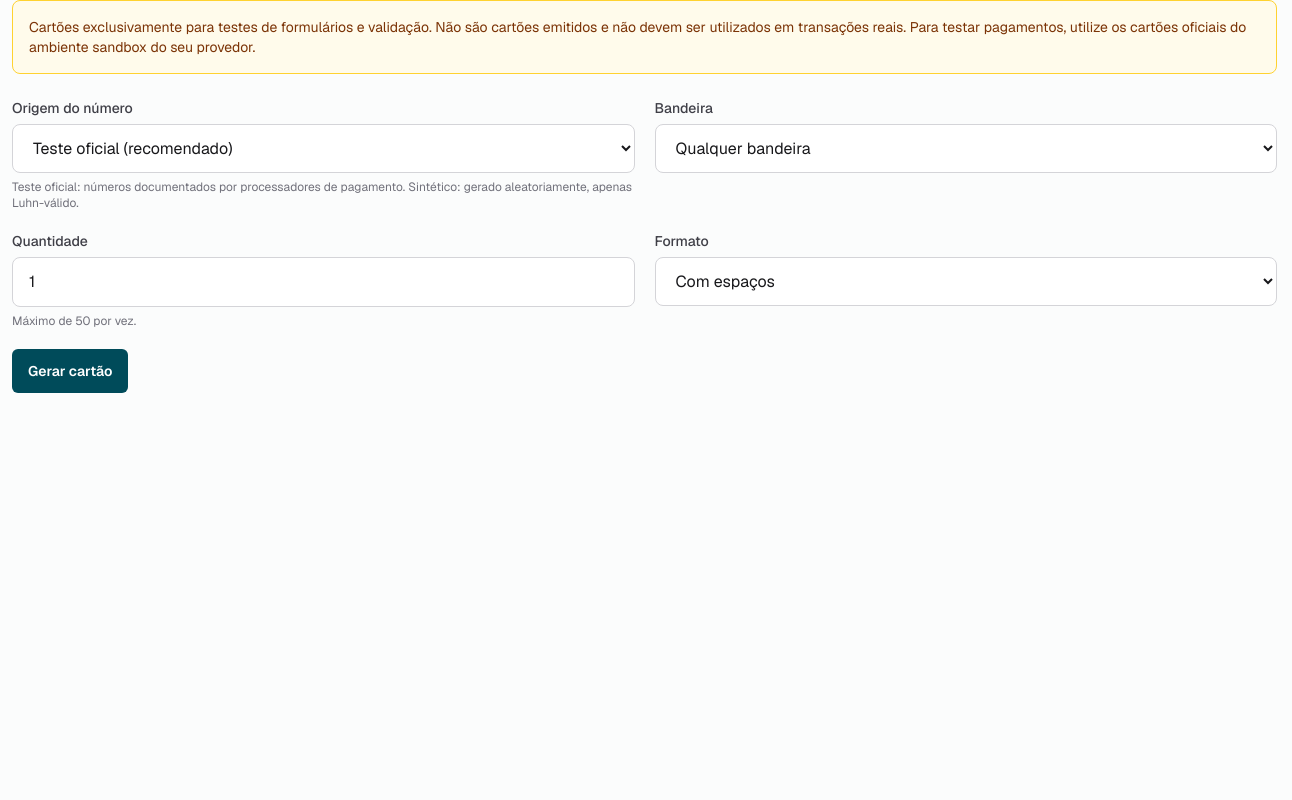
it: CreditCardGeneratorTool › gera um lote e permite copiar todos
This screenshot has width=1292, height=800.
In the field labelled "Quantidade": (323, 282) top-left (12, 257), bottom-right (634, 307), type "3"
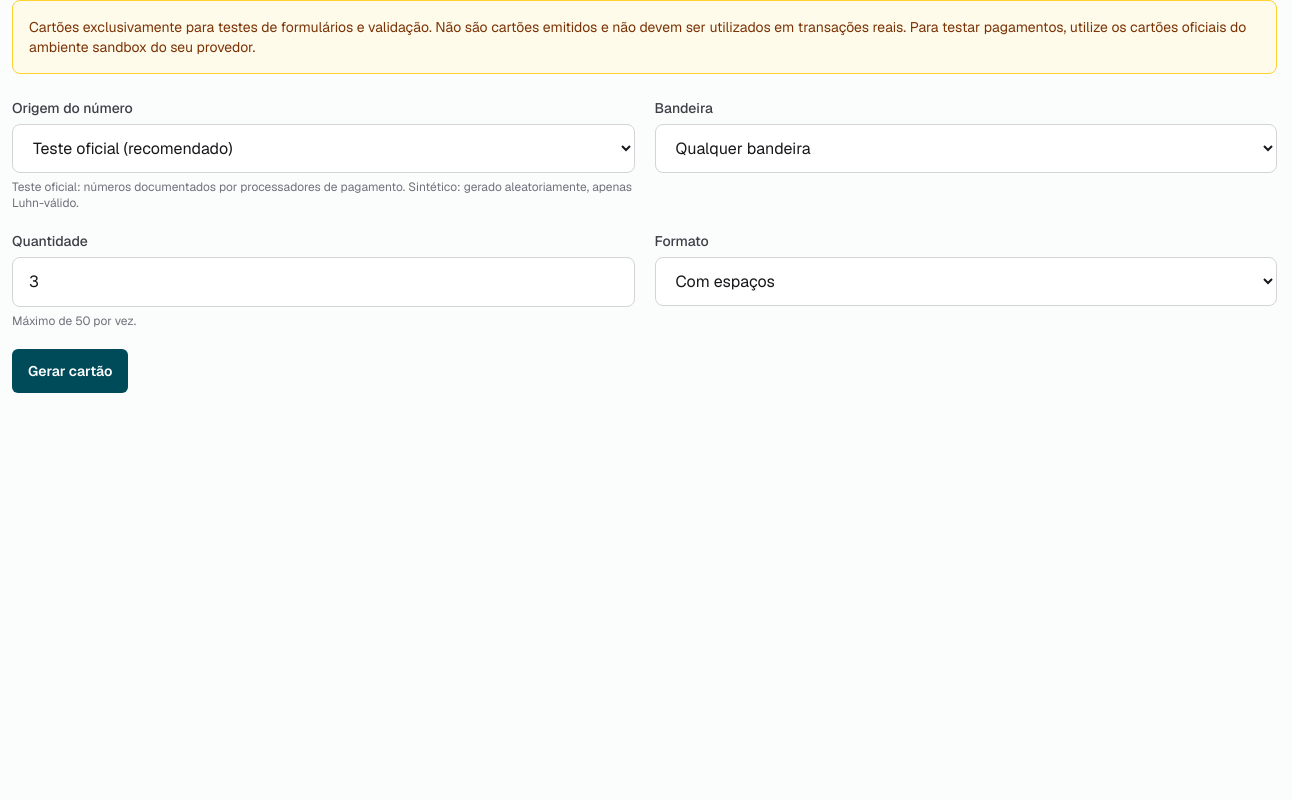
Click the button "Gerar cartão": (70, 371) top-left (12, 349), bottom-right (128, 393)
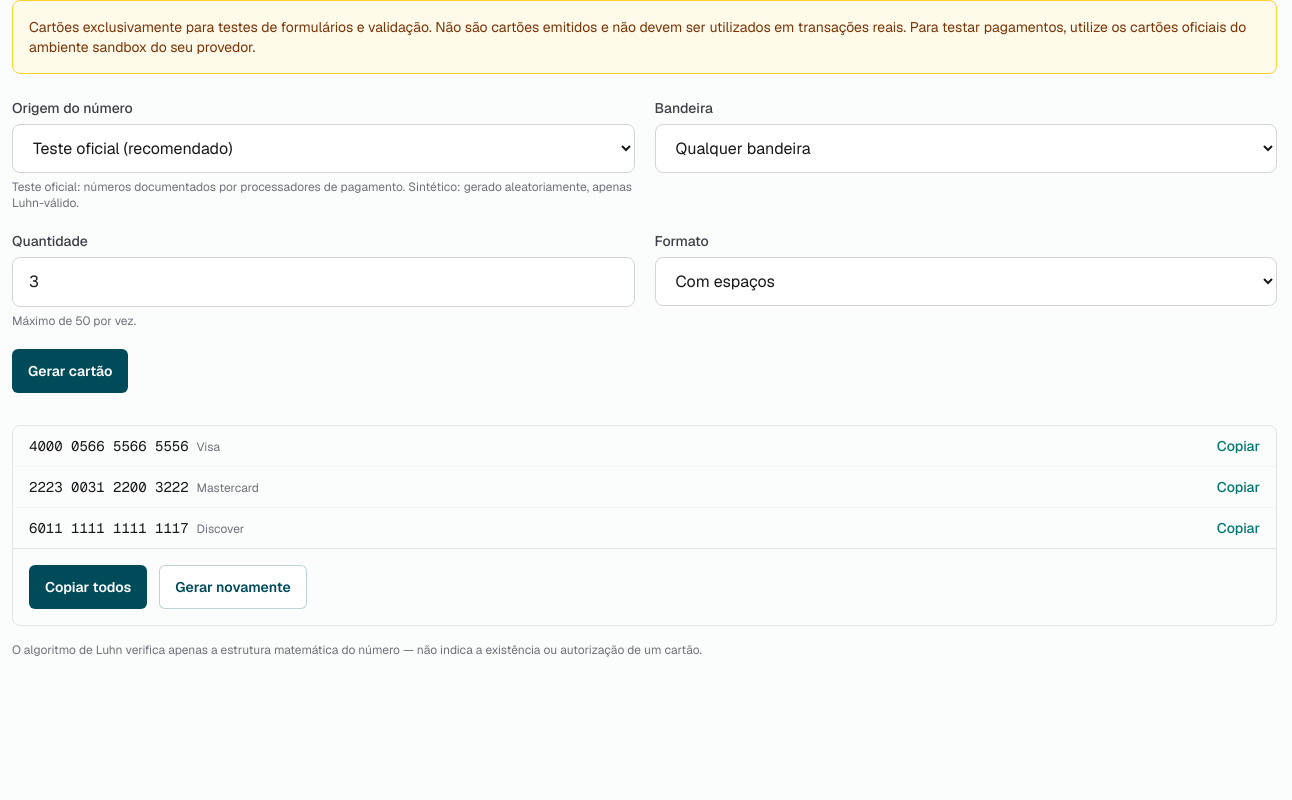
Click the button "Copiar todos": (88, 587) top-left (29, 565), bottom-right (147, 609)
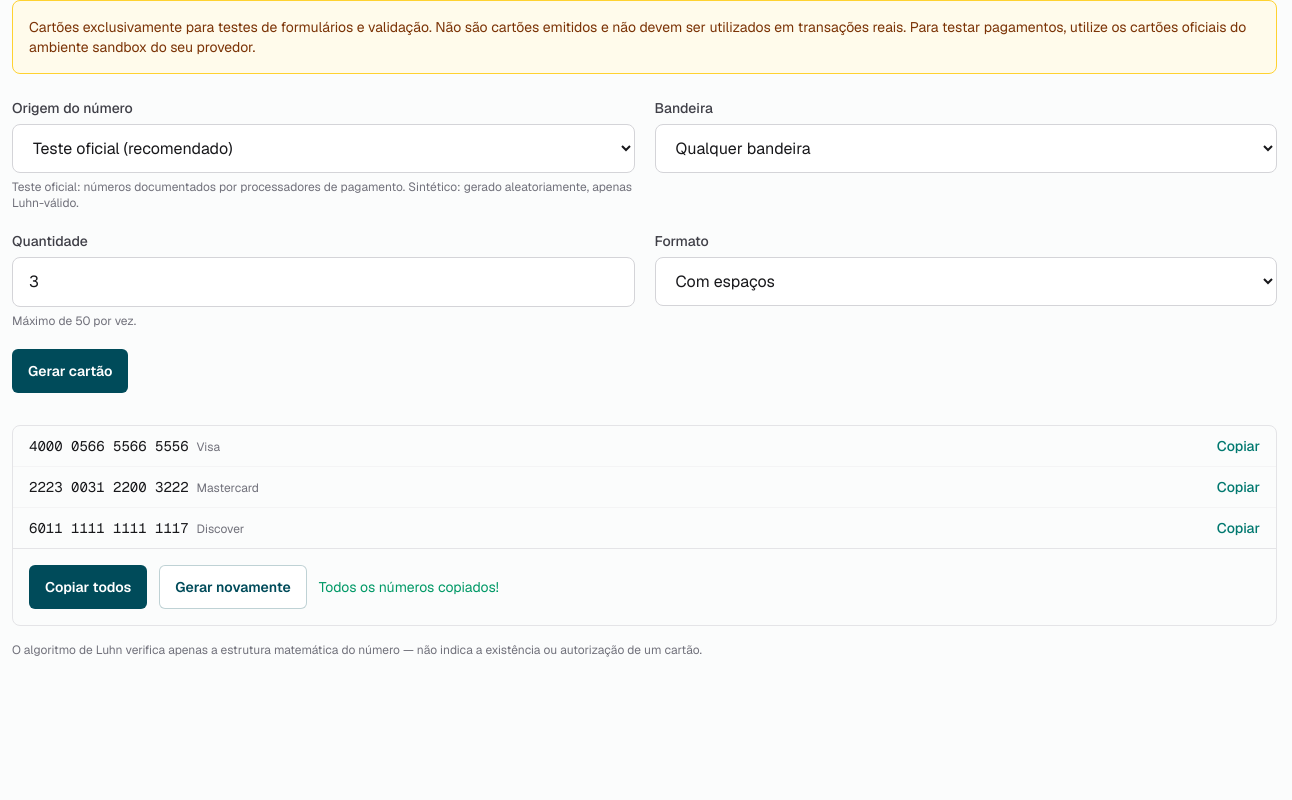
Check: the message reads "Todos os números copiados!", box top-left (319, 578), bottom-right (499, 596)
